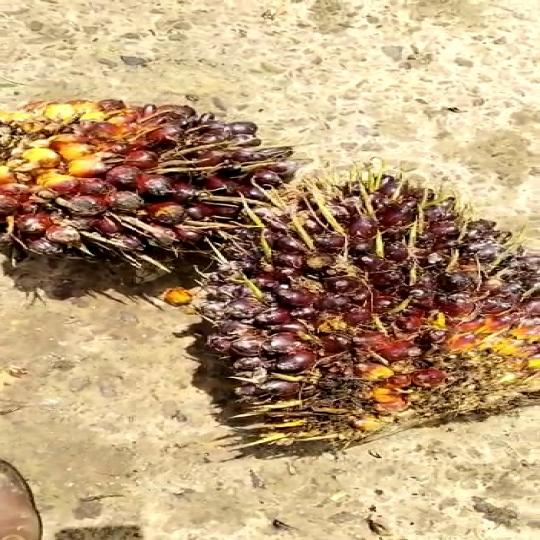kurang masak: (184, 166, 540, 480), (0, 82, 288, 292)
